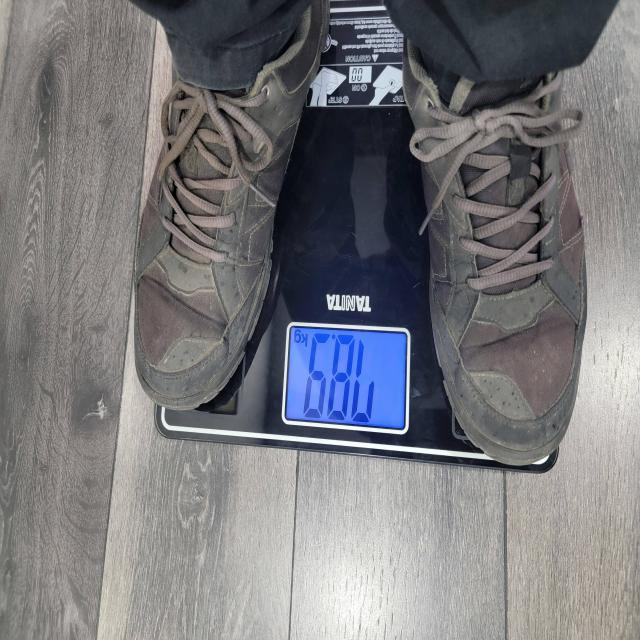ws: (155, 65, 497, 467)
